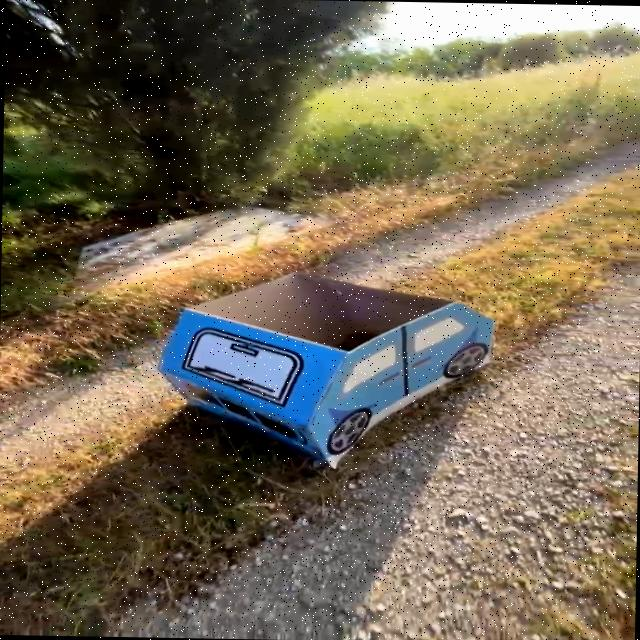blue_car: (88, 242, 519, 506)
